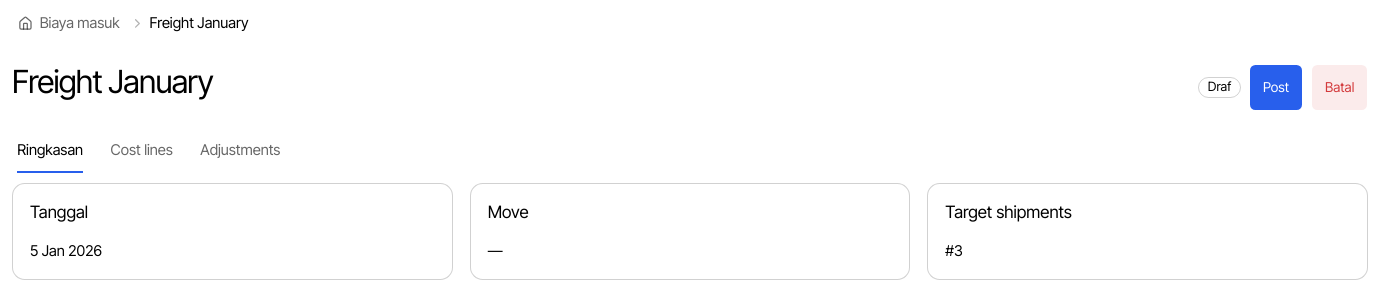
InboundCostDetail › shows empty lines on the cost lines tab
Expected: the heading "Freight January" is shown, [12,64,213,100]
Click the tab "Cost lines".
click(142, 151)  # box [110,128,174,174]
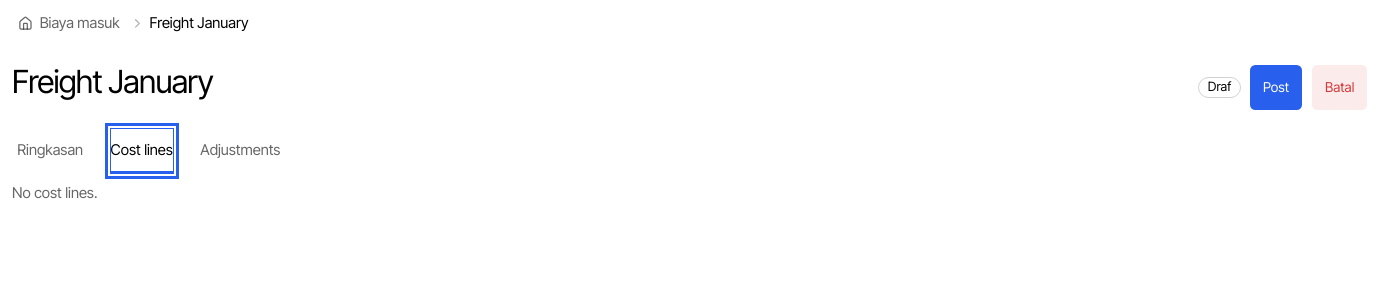
Expected: the text "No cost lines." is shown, [12,184,97,202]
